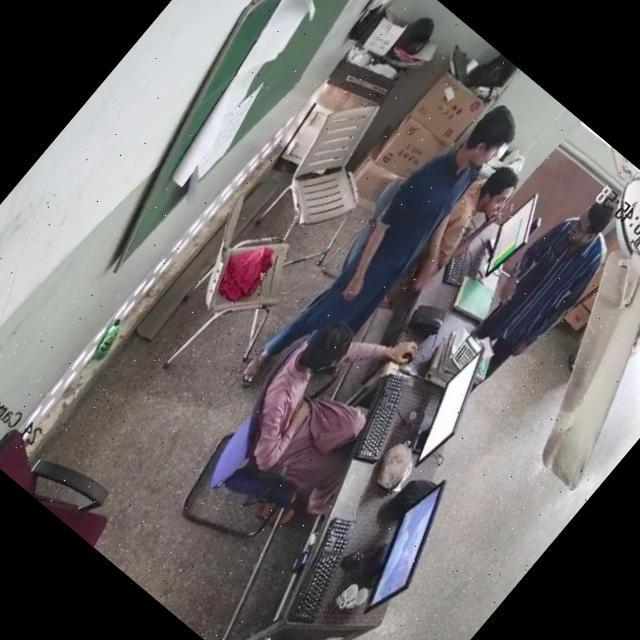person: (240, 89, 520, 408), (219, 313, 400, 497), (457, 189, 626, 374), (422, 152, 534, 275)
